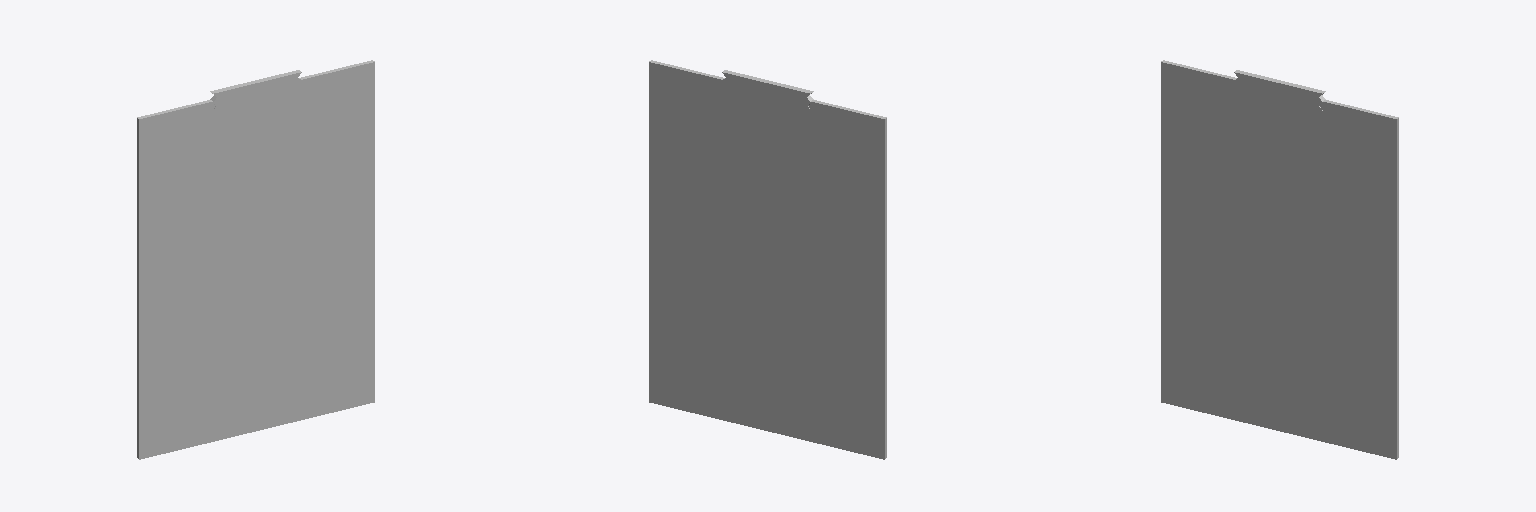
Rendered from poster.obj.
3 views of the same model, side by side, from view 1: azimuth 30°, elevation 25°; view 2: azimuth 150°, elevation 25°; view 3: azimuth 330°, elevation 25° (orthographic).
Parts seen in each view (by area): view 1: Cube, Cube.001; view 2: Cube, Cube.001; view 3: Cube, Cube.001.
Part boxes in pixels (x1,y1,x2,y2): Cube: (137,60,374,459); Cube.001: (210,70,301,110); Cube: (649,60,886,459); Cube.001: (722,70,813,110); Cube: (1161,60,1398,459); Cube.001: (1234,70,1325,110).
Bounding box in the file's own units: 2 × 2.83 × 0.0474.